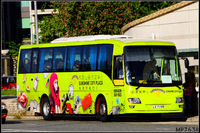bus: (17, 41, 181, 115)
